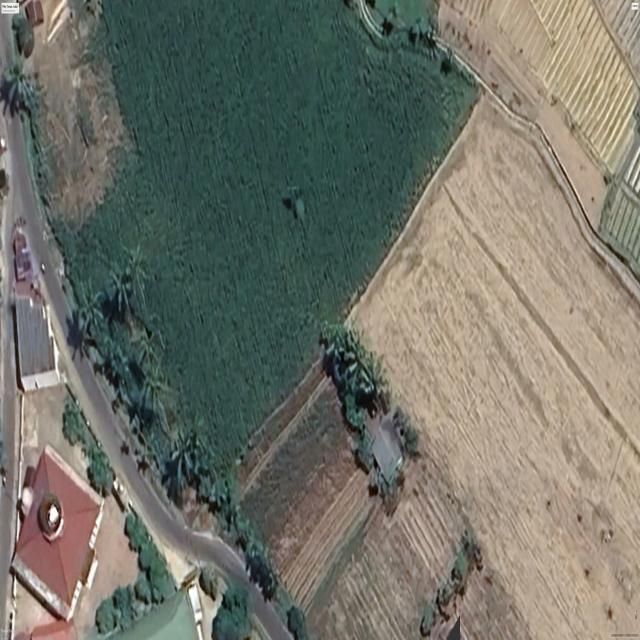Home: (13, 297, 62, 392), (366, 413, 403, 483)
mosque: (11, 444, 104, 621)
